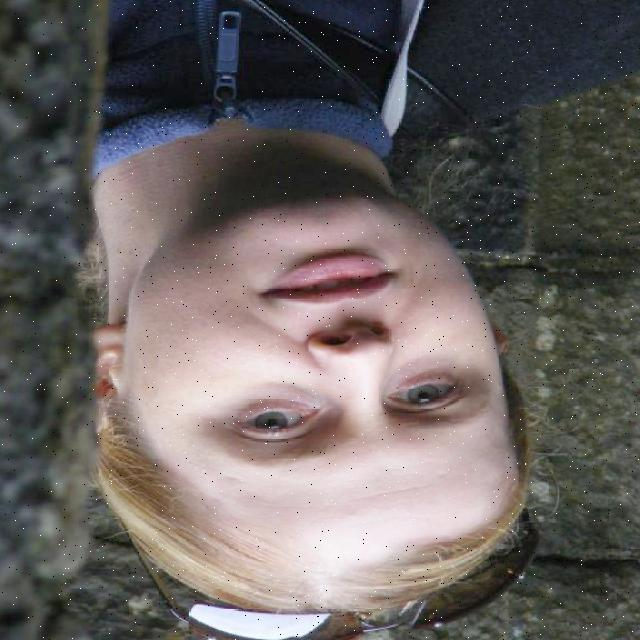puffy_eyes: (234, 379, 326, 417), (382, 357, 459, 396)
